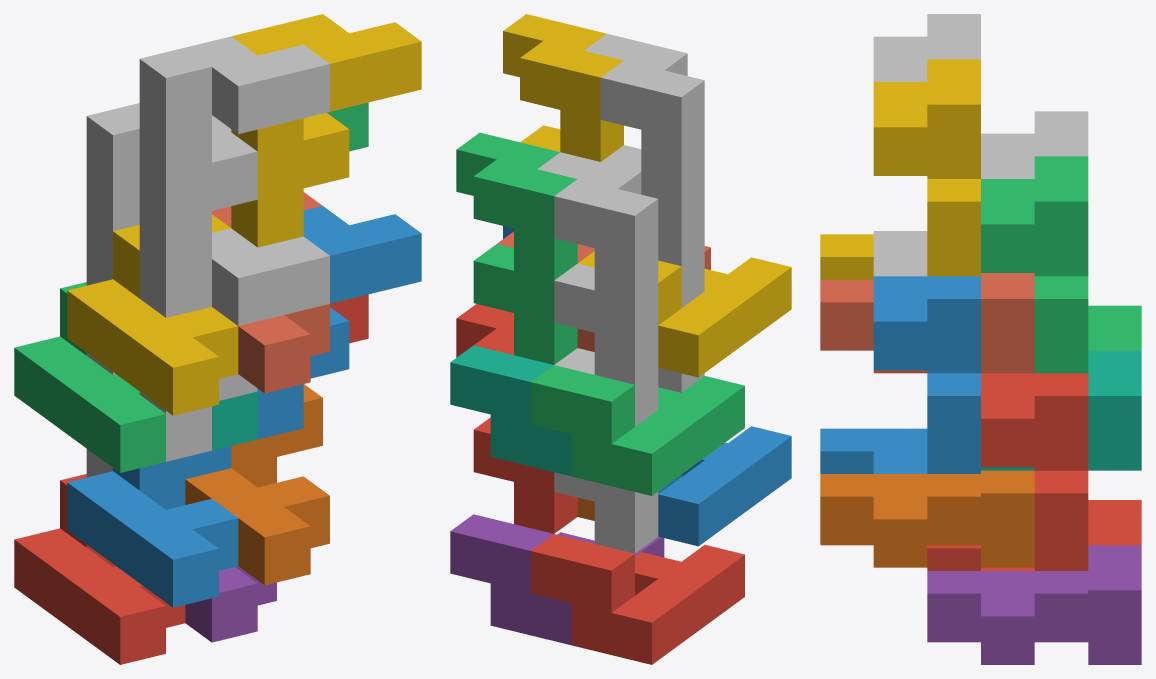
The model's file is tiling.obj.
3 renders of one model, left to right at view 1: azimuth 30°, elevation 25°; view 2: azimuth 150°, elevation 25°; view 3: azimuth 270°, elevation 25°, orthographic. The views are drawn at different scales.
Visible parts, largest first — view 1: copy_2_domain_4, copy_2_domain_8, copy_1_domain_2, copy_1_domain_4, copy_2_domain_2, copy_1_domain_6, copy_1_domain_1, copy_1_domain_3, copy_2_domain_6, copy_2_domain_3, copy_1_domain_8, copy_1_domain_5 (+3 smaller); view 2: copy_2_domain_3, copy_1_domain_1, copy_1_domain_3, copy_2_domain_7, copy_2_domain_4, copy_2_domain_8, copy_1_domain_4, copy_1_domain_2, copy_1_domain_5, copy_1_domain_7, copy_2_domain_5, copy_2_domain_1 (+2 smaller); view 3: copy_1_domain_5, copy_1_domain_6, copy_2_domain_7, copy_2_domain_8, copy_2_domain_5, copy_2_domain_6, copy_1_domain_8, copy_1_domain_7, copy_1_domain_2, copy_2_domain_3, copy_2_domain_4, copy_1_domain_1 (+3 smaller).
Boxes of the visible parts, x1=… form: copy_2_domain_4: x1=139, y1=36, x2=329, y2=269; copy_2_domain_8: x1=231, y1=14, x2=421, y2=247; copy_1_domain_2: x1=67, y1=446, x2=238, y2=607; copy_1_domain_4: x1=67, y1=214, x2=238, y2=415; copy_2_domain_2: x1=139, y1=228, x2=329, y2=461; copy_1_domain_6: x1=185, y1=384, x2=329, y2=585; copy_1_domain_1: x1=14, y1=474, x2=185, y2=664; copy_1_domain_3: x1=14, y1=282, x2=165, y2=472; copy_2_domain_6: x1=257, y1=206, x2=421, y2=439; copy_2_domain_3: x1=86, y1=103, x2=231, y2=285; copy_1_domain_8: x1=212, y1=192, x2=329, y2=393; copy_1_domain_5: x1=185, y1=566, x2=276, y2=642; copy_2_domain_3: x1=537, y1=152, x2=658, y2=384; copy_1_domain_1: x1=531, y1=534, x2=744, y2=664; copy_1_domain_3: x1=531, y1=365, x2=744, y2=495; copy_2_domain_7: x1=456, y1=132, x2=577, y2=364; copy_2_domain_4: x1=584, y1=33, x2=704, y2=265; copy_2_domain_8: x1=503, y1=14, x2=623, y2=161; copy_1_domain_4: x1=578, y1=251, x2=791, y2=377; copy_1_domain_2: x1=658, y1=426, x2=791, y2=546; copy_1_domain_5: x1=450, y1=514, x2=664, y2=644; copy_1_domain_7: x1=450, y1=345, x2=571, y2=476; copy_2_domain_5: x1=456, y1=304, x2=577, y2=533; copy_2_domain_1: x1=554, y1=348, x2=658, y2=553; copy_1_domain_5: x1=927, y1=545, x2=1141, y2=664; copy_1_domain_6: x1=820, y1=470, x2=1034, y2=567; copy_2_domain_7: x1=981, y1=156, x2=1088, y2=373; copy_2_domain_8: x1=873, y1=59, x2=980, y2=276; copy_2_domain_5: x1=981, y1=373, x2=1088, y2=567; copy_2_domain_6: x1=873, y1=276, x2=980, y2=470; copy_1_domain_8: x1=820, y1=273, x2=1034, y2=373; copy_1_domain_7: x1=981, y1=350, x2=1141, y2=470; copy_1_domain_2: x1=820, y1=428, x2=980, y2=473; copy_2_domain_3: x1=981, y1=111, x2=1088, y2=178; copy_2_domain_4: x1=873, y1=14, x2=980, y2=81; copy_1_domain_1: x1=927, y1=500, x2=1141, y2=570.
Size of the model in its own units: 6 by 12 by 6.
